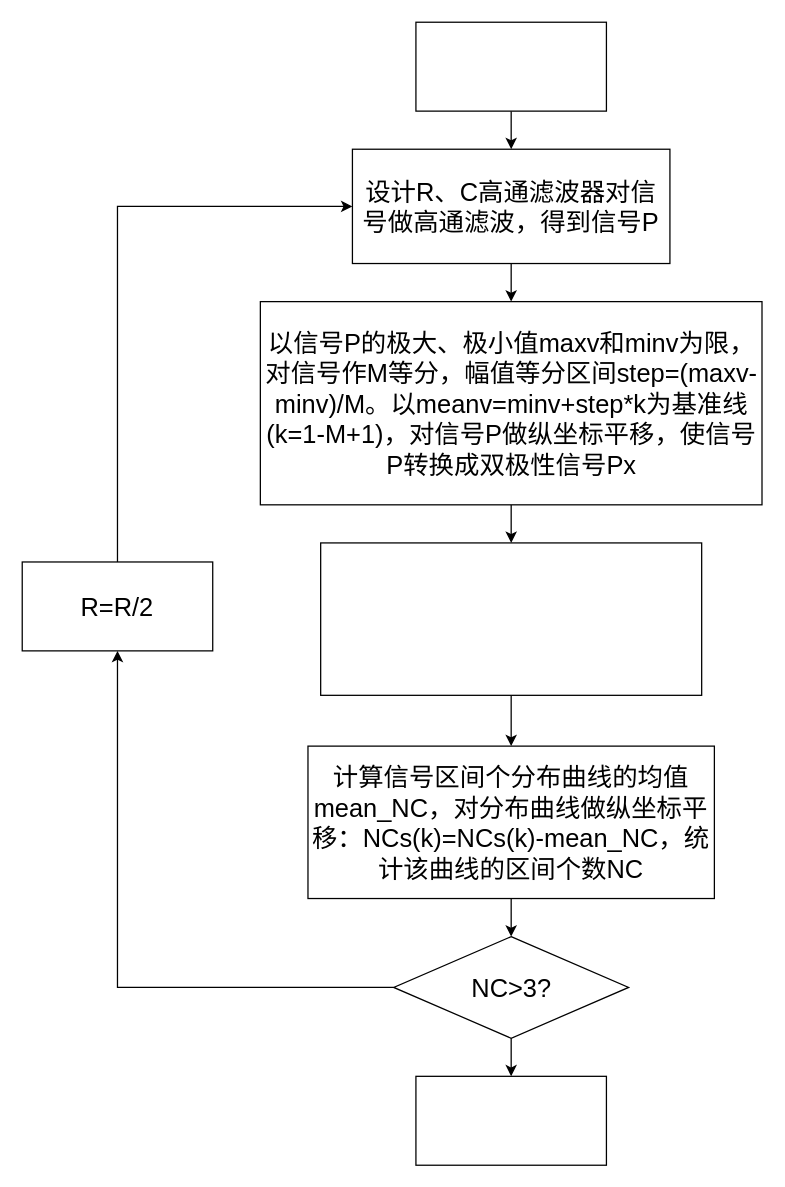
Some shapes in this 785 by 1187 pixel diagram are drawn without their labels. Each missing label, with the centre of its shape:
对信号做一定尺度的小波去噪: [510,66]
根据信号的过零点，统计正负区间个数存入NCs中，最终得到不同基准线条件下的信号区间个数分布曲线: [510,618]
趋势消除成功: [510,1120]
